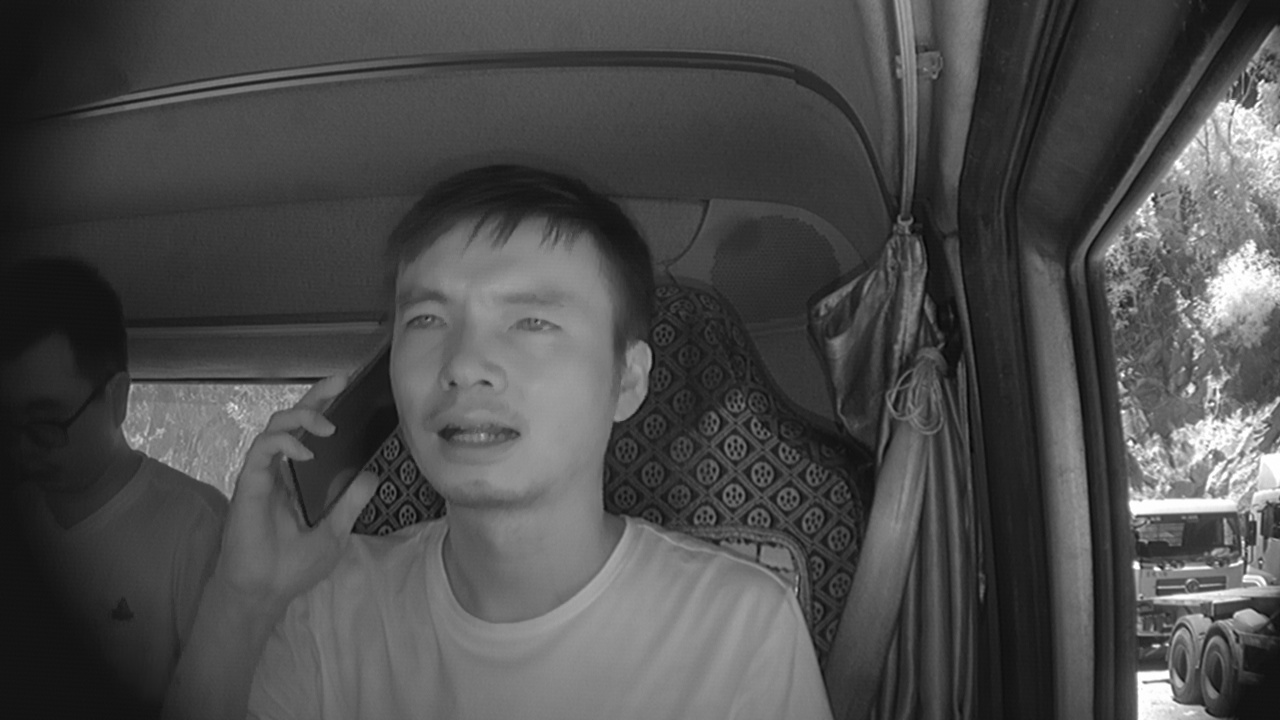hand: (233, 384, 373, 581)
